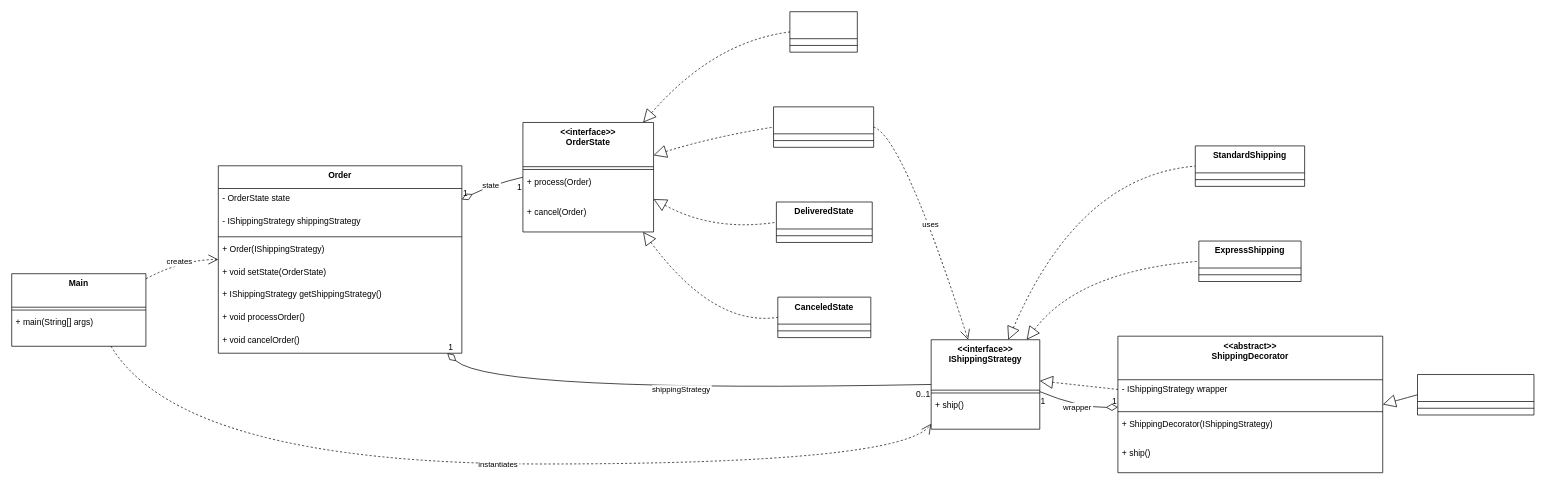
This 1546x484 diagram has some shape labels left out. The centre of each missing label's shape, as x and y in pixels:
"GiftWrapDecorator" goes at pixel 1475 394.
"NewState" goes at pixel 823 31.
"ProcessingState" goes at pixel 823 126.
